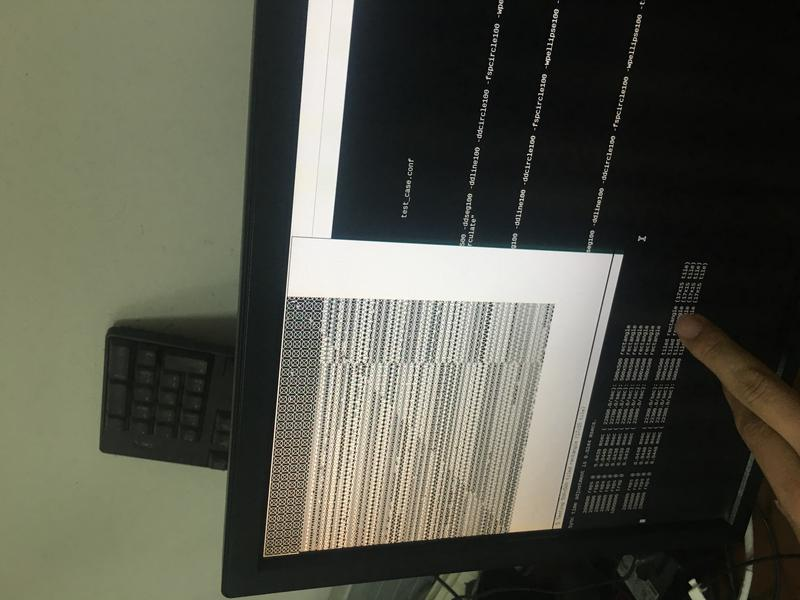xrandr_pass: (264, 223, 624, 553)
